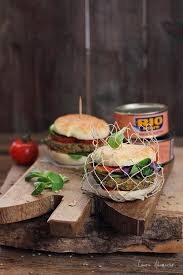hamburger: (89, 143, 164, 202), (49, 112, 112, 165)
